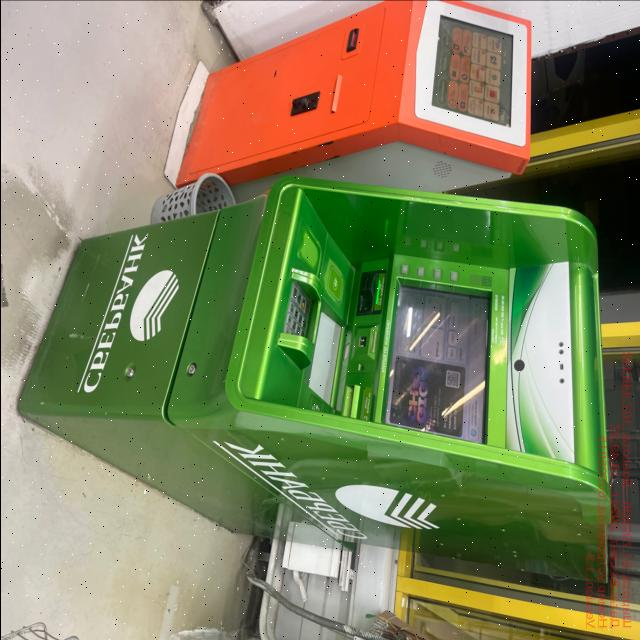bank: (14, 173, 610, 588)
